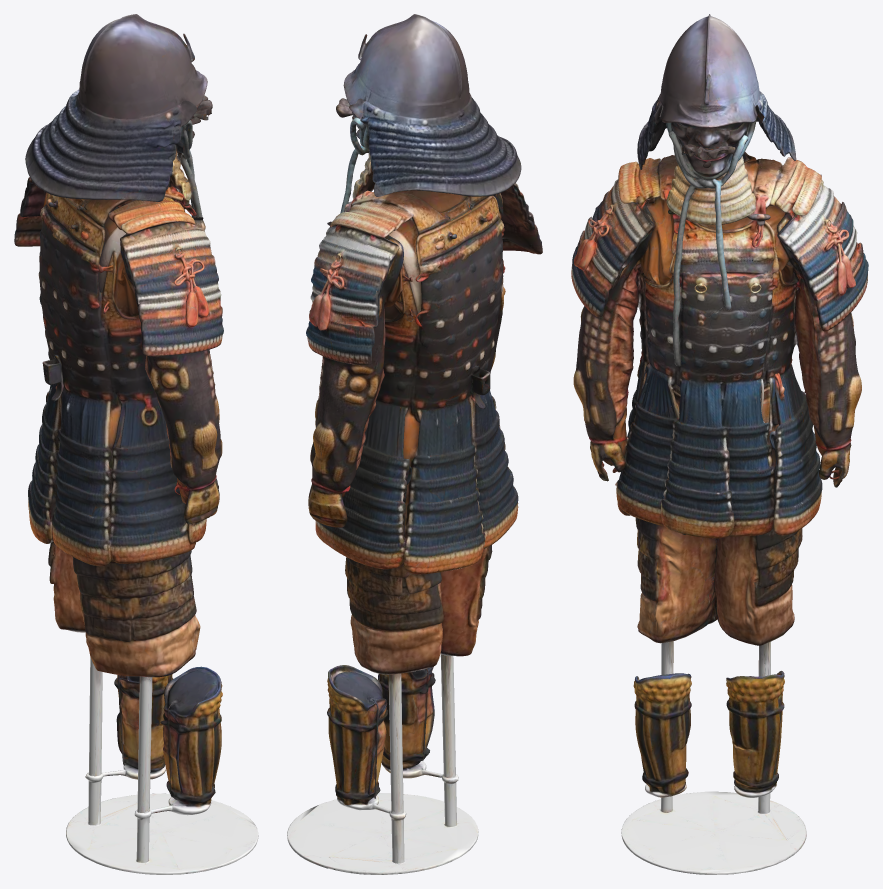
Rendered from samurai_opt.glb.
3 renders of one model, left to right at view 1: azimuth 30°, elevation 25°; view 2: azimuth 150°, elevation 25°; view 3: azimuth 270°, elevation 25°, orthographic. The views are drawn at different scales.
Visible parts, largest first — view 1: Object_2; view 2: Object_2; view 3: Object_2.
Part boxes in pixels (<box>): Object_2: <box>14,14,258,874</box>; Object_2: <box>287,14,542,874</box>; Object_2: <box>571,14,868,874</box>.
Size of the model in its own units: 477 by 1818 by 611.
Materials: 1 (1 with a texture image).
